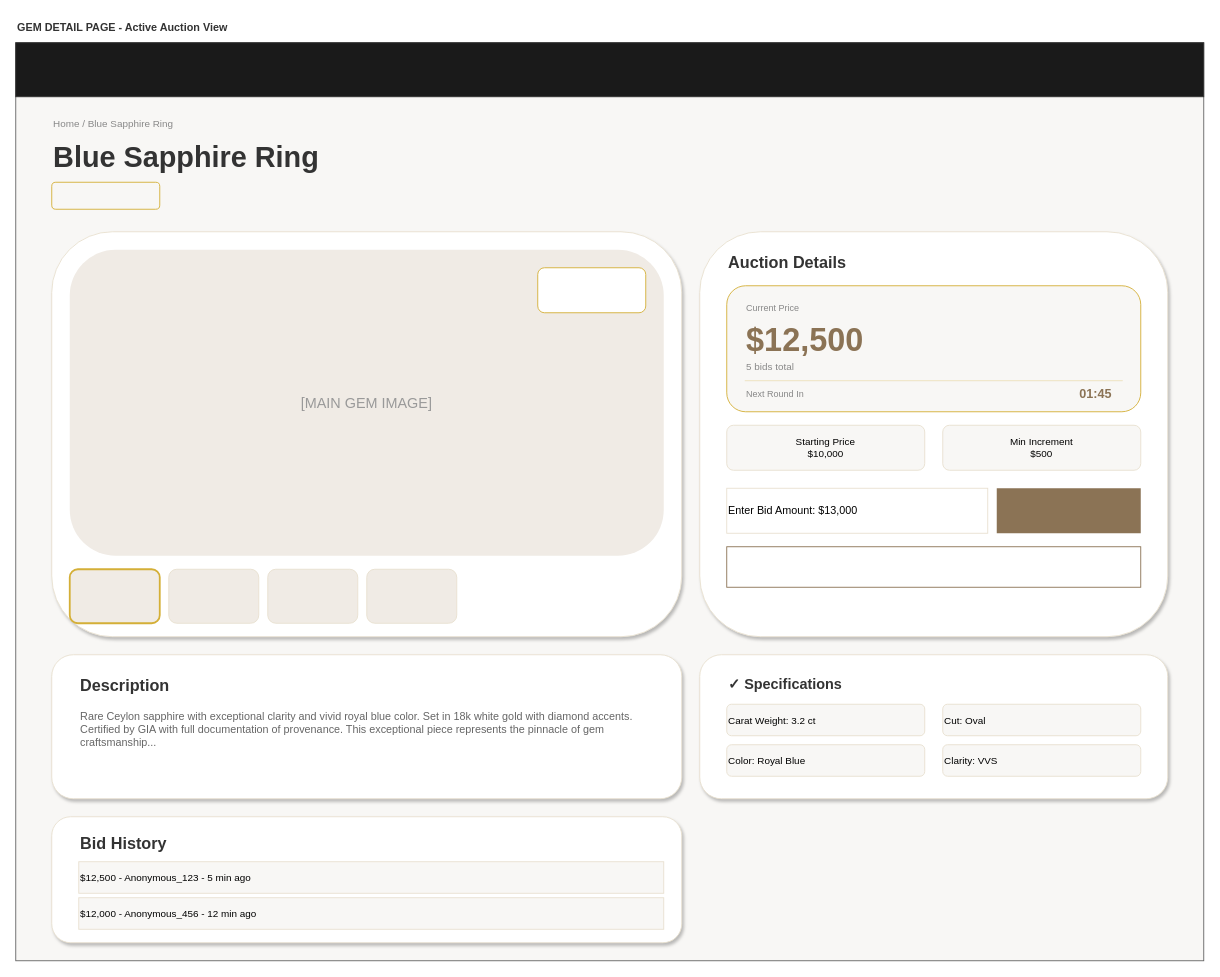
Some shapes in this 1220 by 977 pixel diagram are drawn without their labels. Each missing label, with the centre of its shape:
LUXBID Reserve: (609,69)
Place Bid →: (1068,510)
Register to Bid: (933,566)
⏱ Ends In 2h 35m 12s: (591,290)
● Live Auction: (105,195)
